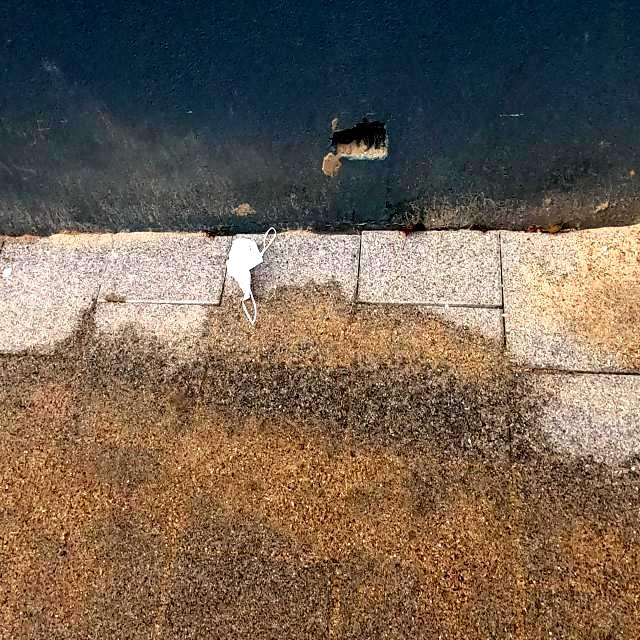Mask: (218, 230, 286, 310)
